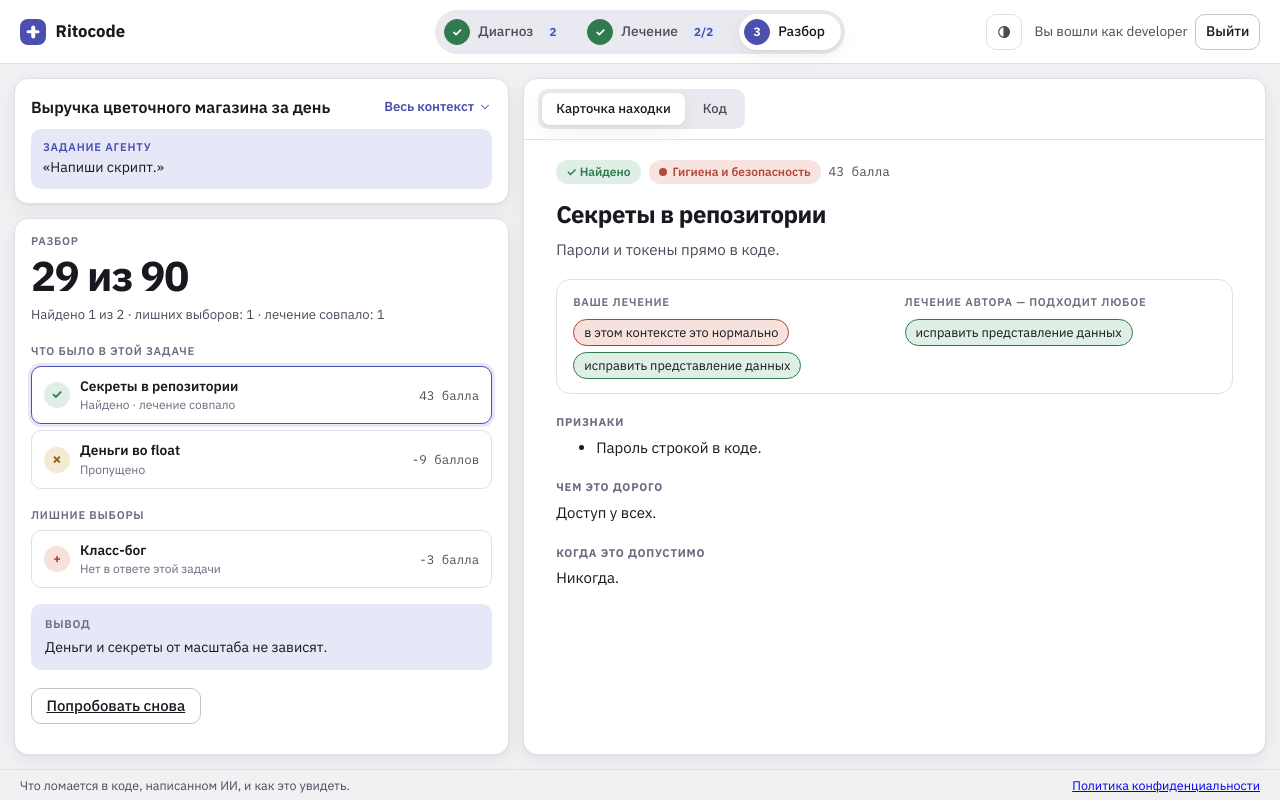
Test case: the review › shows a missed card with the author’s leaves, the note and the full card
Check: the heading "Разбор" is shown, box 31,234 -> 79,248
Click the button "✗ Деньги во float Пропущено -9 баллов" at (130, 450), box 31,430 -> 492,489
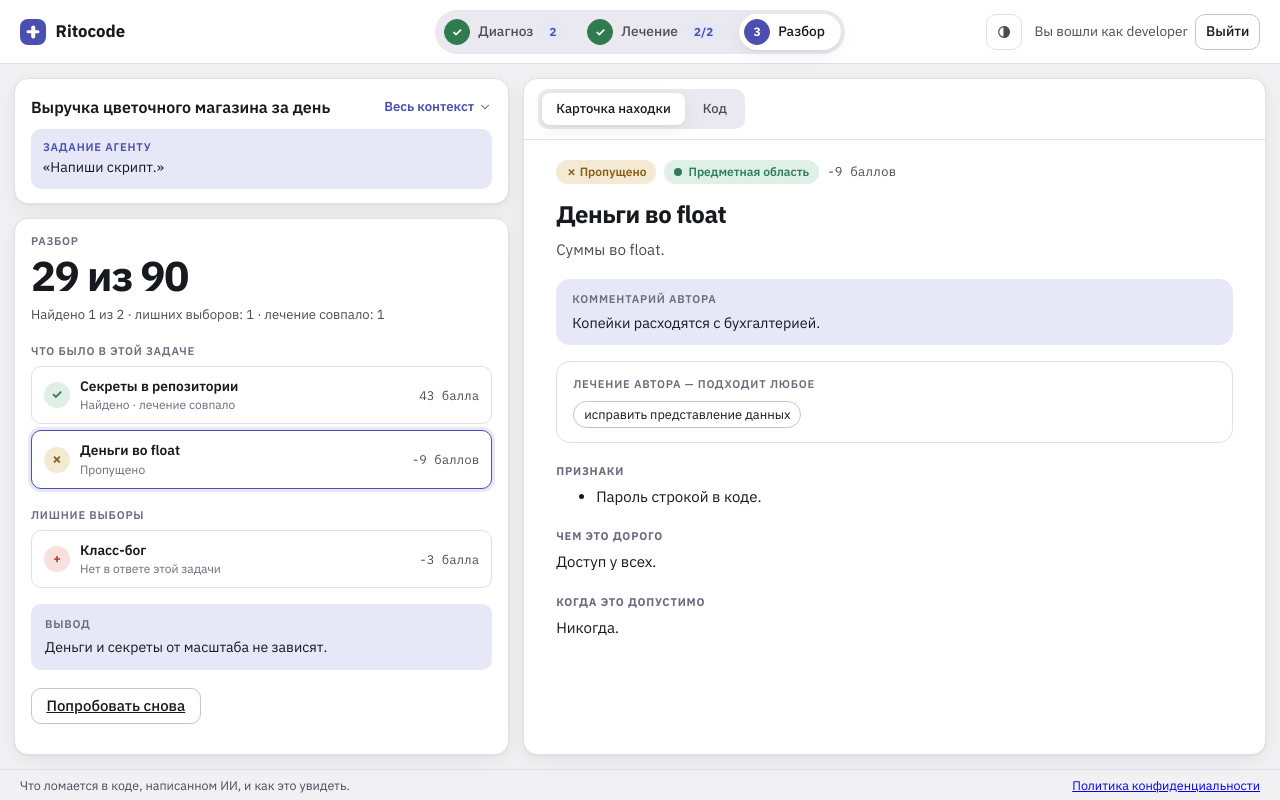
Check: the text "Пропущено" is shown, box 580,164 -> 646,179
Check: the text "Ваше лечение" is gone
Check: the text "Копейки расходятся с бухгалтерией." is shown, box 572,313 -> 820,332
